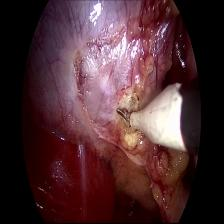Hook: (116, 82, 190, 156)
